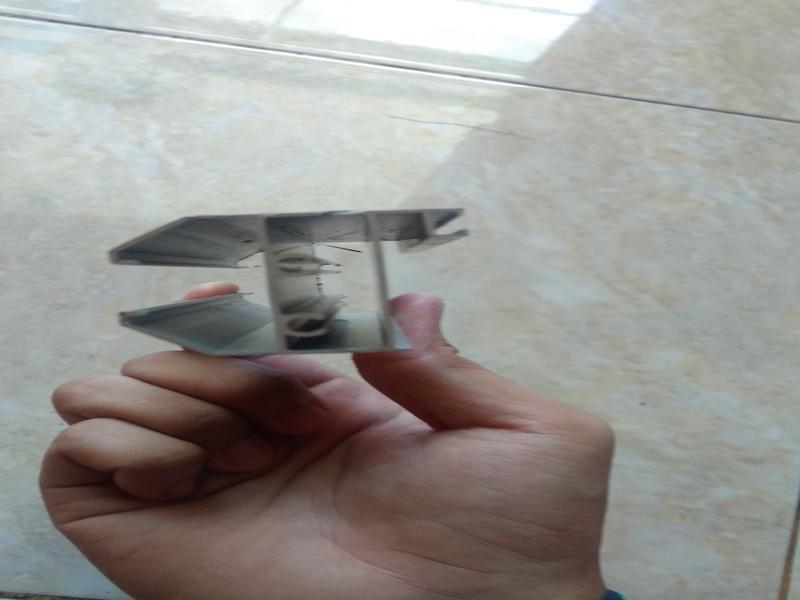Aluminium_3: (83, 190, 486, 368)
